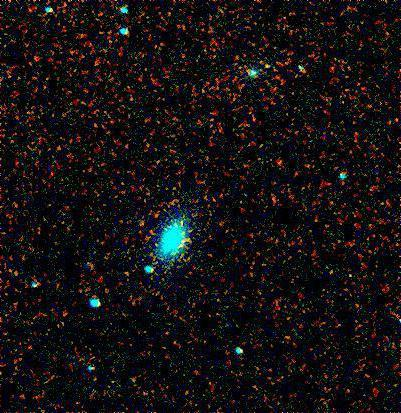star: (269, 144, 299, 174)
